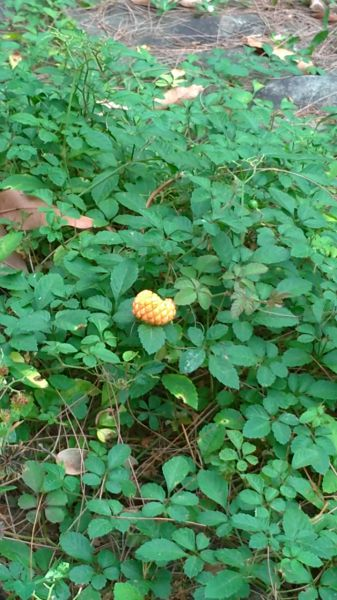eggs: (130, 285, 177, 328)
